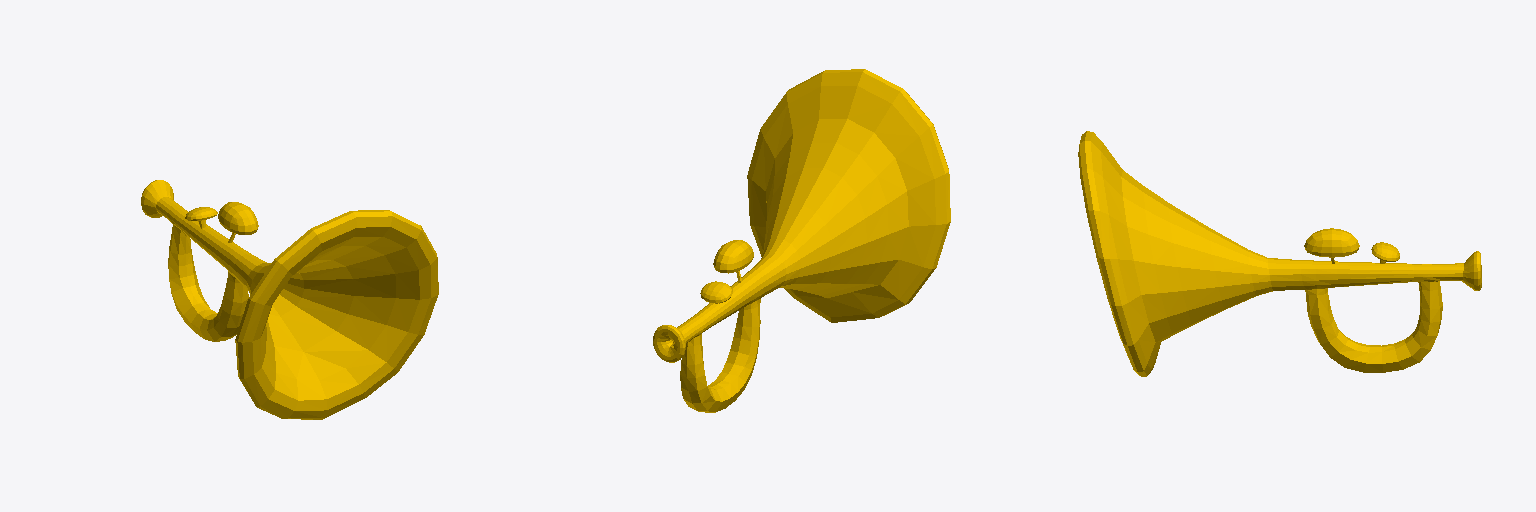
3 renders of one model, left to right at view 1: azimuth 30°, elevation 25°; view 2: azimuth 150°, elevation 25°; view 3: azimuth 270°, elevation 25°, orthographic.
Parts seen in each view (by area): view 1: Trumpet_msh; view 2: Trumpet_msh; view 3: Trumpet_msh.
Boxes of the visible parts, x1=… form: Trumpet_msh: x1=141, y1=180, x2=438, y2=419; Trumpet_msh: x1=653, y1=69, x2=950, y2=412; Trumpet_msh: x1=1078, y1=131, x2=1481, y2=376.
Bounding box in the file's own units: 0.2321 × 0.2537 × 0.4027.
Materials: 1 (1 with a texture image).